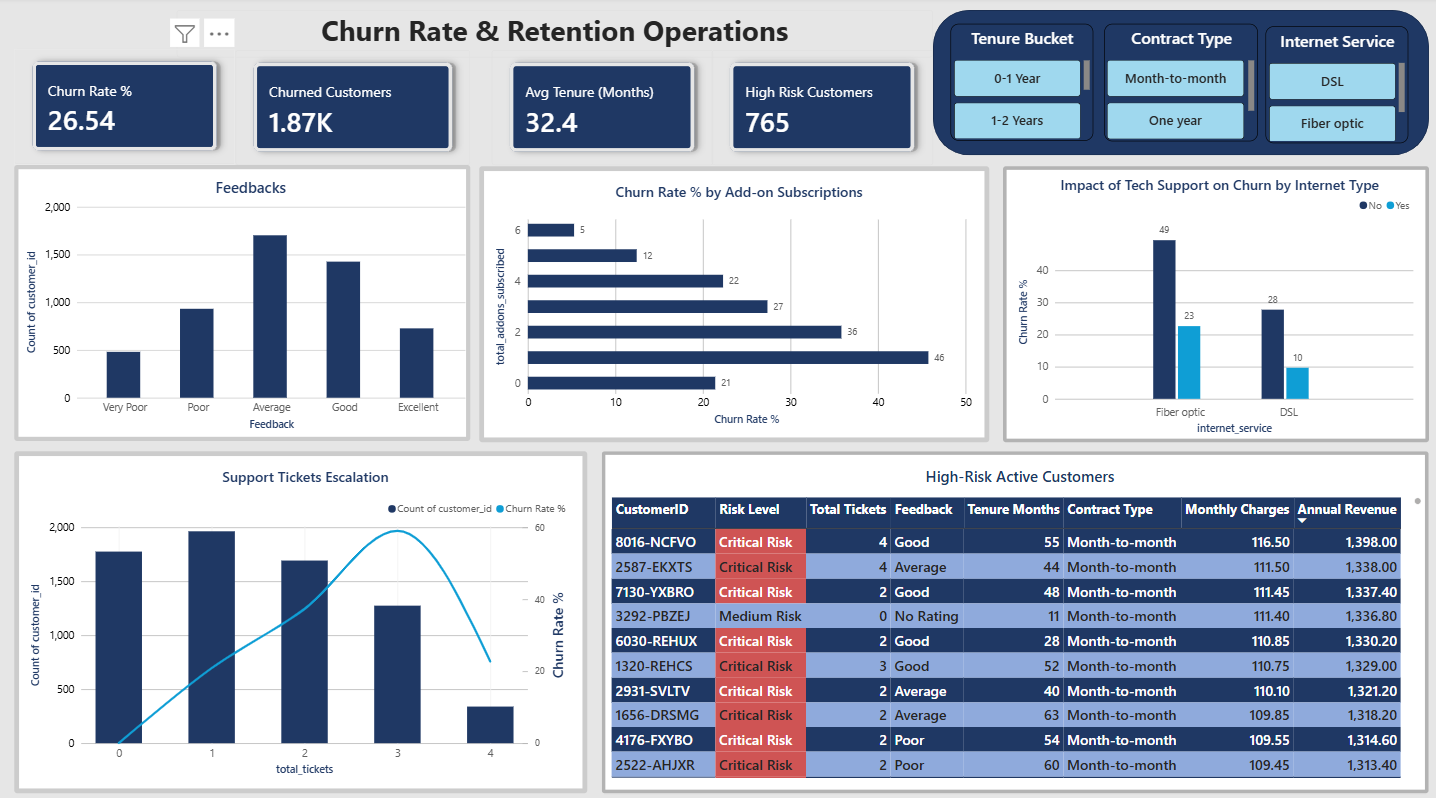

This screenshot's page, from the dashboard's own definition file:
{"tool":"powerbi","page":{"name":"Root Cause & Retention Action","canvas":[1920,1080],"ordinal":1},"visuals":[{"type":"textbox","box":[238.3,20,1008.3,63.3],"z":0},{"type":"cardVisual","fields":{"Data":["telecom_churn_cleaned.Churned Customers"]},"box":[316.6,72.6,313.1,153.8],"z":1000},{"type":"tableEx","title":"High-Risk Active Customers","fields":{"Values":["telecom_churn_cleaned.customer_id","telecom_churn_cleaned.Risk Level","Sum(telecom_churn_cleaned.total_tickets)","telecom_churn_cleaned.Feedback","Sum(telecom_churn_cleaned.tenure_months)","telecom_churn_cleaned.contract_type","Sum(telecom_churn_cleaned.monthly_charges)","Sum(telecom_churn_cleaned.Annual Active Customer Revenue)"]},"box":[804.7,609.1,1102.7,456.3],"z":2000},{"type":"lineClusteredColumnComboChart","title":"Support Tickets Escalation","fields":{"Category":["telecom_churn_cleaned.total_tickets"],"Y2":["telecom_churn_cleaned.Churn Rate %"],"Y":["CountNonNull(telecom_churn_cleaned.customer_id)"]},"box":[22.4,609.1,763.7,456.3],"z":3000},{"type":"clusteredColumnChart","title":"Impact of Tech Support on Churn by Internet Type","fields":{"Category":["telecom_churn_cleaned.internet_service"],"Y":["telecom_churn_cleaned.Churn Rate %"],"Series":["telecom_churn_cleaned.tech_support"]},"box":[1340,228.3,568.3,368.3],"z":4000},{"type":"barChart","title":"Churn Rate % by Add-on Subscriptions","fields":{"Y":["telecom_churn_cleaned.Churn Rate %"],"Category":["telecom_churn_cleaned.total_addons_subscribed"]},"box":[641.7,228.3,680,368.3],"z":5000},{"type":"columnChart","title":"Feedbacks","fields":{"Y":["Count(telecom_churn_cleaned.customer_id)"],"Category":["telecom_churn_cleaned.Feedback"]},"box":[21.7,226.7,608.3,368.3],"z":6000},{"type":"cardVisual","fields":{"Data":["telecom_churn_cleaned.High Risk Customers"]},"box":[951.8,72.6,295,153.8],"z":7000},{"type":"cardVisual","fields":{"Data":["telecom_churn_cleaned.Churn Rate %"]},"box":[21.7,72.4,295,153.8],"z":8000},{"type":"shape","box":[1246.1,20.5,661.2,193.7],"z":9000},{"type":"advancedSlicerVisual","title":"Contract Type","fields":{"Values":["telecom_churn_cleaned.contract_type"]},"box":[1475.2,39.1,204.9,156.5],"z":10000},{"type":"advancedSlicerVisual","title":"Internet Service","fields":{"Values":["telecom_churn_cleaned.internet_service"]},"box":[1689.4,41,190,155.6],"z":11000},{"type":"cardVisual","fields":{"Data":["telecom_churn_cleaned.Avg Tenure (Months)"]},"box":[657.5,72.6,295,153.8],"z":12000},{"type":"advancedSlicerVisual","title":"Tenure Bucket","fields":{"Values":["telecom_churn_cleaned.tenure_bucket"]},"box":[1270,39.1,190,155.6],"z":13000}]}

Visuals, with their boxes in screenshot pixels (x1, y1, x2, y2), scaled from the page's 1920x1080 canvas onto the 1436x798 screenshot:
textbox: [x1=178, y1=15, x2=932, y2=62]
cardVisual - telecom_churn_cleaned.Churned Customers: [x1=237, y1=54, x2=471, y2=167]
"High-Risk Active Customers" tableEx: [x1=602, y1=450, x2=1427, y2=787]
"Support Tickets Escalation" lineClusteredColumnComboChart: [x1=17, y1=450, x2=588, y2=787]
"Impact of Tech Support on Churn by Internet Type" clusteredColumnChart: [x1=1002, y1=169, x2=1427, y2=441]
"Churn Rate % by Add-on Subscriptions" barChart: [x1=480, y1=169, x2=989, y2=441]
"Feedbacks" columnChart: [x1=16, y1=168, x2=471, y2=440]
cardVisual - telecom_churn_cleaned.High Risk Customers: [x1=712, y1=54, x2=933, y2=167]
cardVisual - telecom_churn_cleaned.Churn Rate %: [x1=16, y1=53, x2=237, y2=167]
shape: [x1=932, y1=15, x2=1427, y2=158]
"Contract Type" advancedSlicerVisual: [x1=1103, y1=29, x2=1257, y2=145]
"Internet Service" advancedSlicerVisual: [x1=1264, y1=30, x2=1406, y2=145]
cardVisual - telecom_churn_cleaned.Avg Tenure (Months): [x1=492, y1=54, x2=712, y2=167]
"Tenure Bucket" advancedSlicerVisual: [x1=950, y1=29, x2=1092, y2=144]
